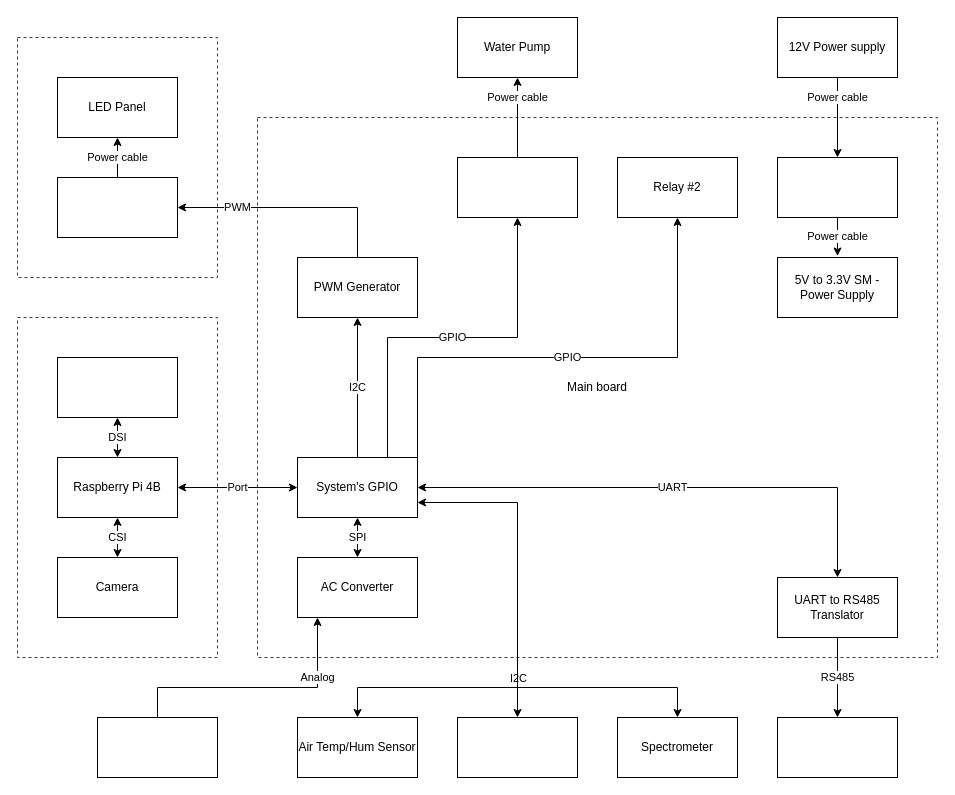
The diagram is 955 pixels wide and 795 high, and some of its shapes have lost their labels. The centre of each missing label's shape, as x and y in pixels:
"12V to 5V SM - Power Supply" belongs at [837,187].
"CO2 Sensor" belongs at [517,747].
"Display + Touchpad" belongs at [117,387].
"LED Drivers" belongs at [117,207].
"O2 Sensor" belongs at [157,747].
"Relay #1" belongs at [517,187].
"Soil parameters sensor" belongs at [837,747].
